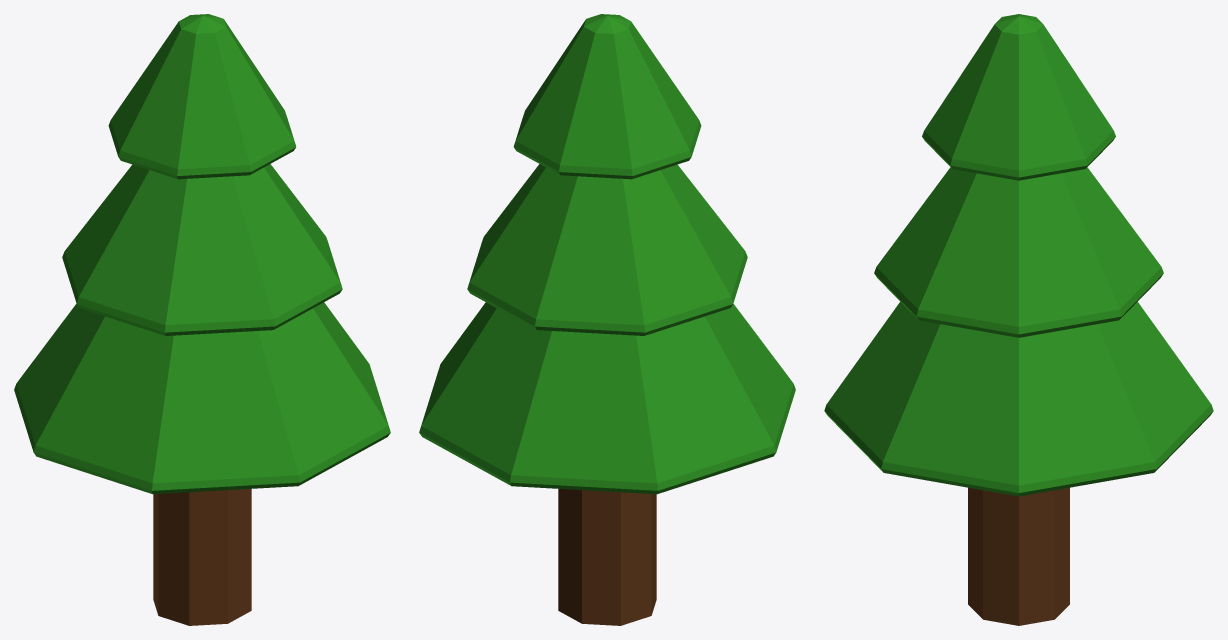
The model's file is tree04.glb.
3 renders of one model, left to right at view 1: azimuth 30°, elevation 25°; view 2: azimuth 150°, elevation 25°; view 3: azimuth 270°, elevation 25°, orthographic.
Parts seen in each view (by area): view 1: Cylinder; view 2: Cylinder; view 3: Cylinder.
Part boxes in pixels (x1=…): Cylinder: x1=14, y1=14, x2=390, y2=625; Cylinder: x1=419, y1=14, x2=795, y2=625; Cylinder: x1=824, y1=14, x2=1213, y2=625.
Bounding box in the file's own units: 24.73 × 41.23 × 24.73.
Materials: 1 (1 with a texture image).
